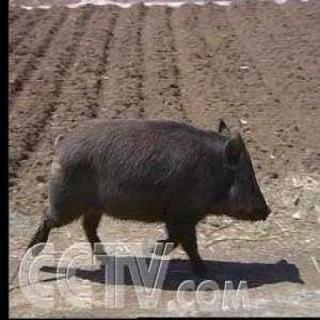Pig: (0, 114, 296, 272)
